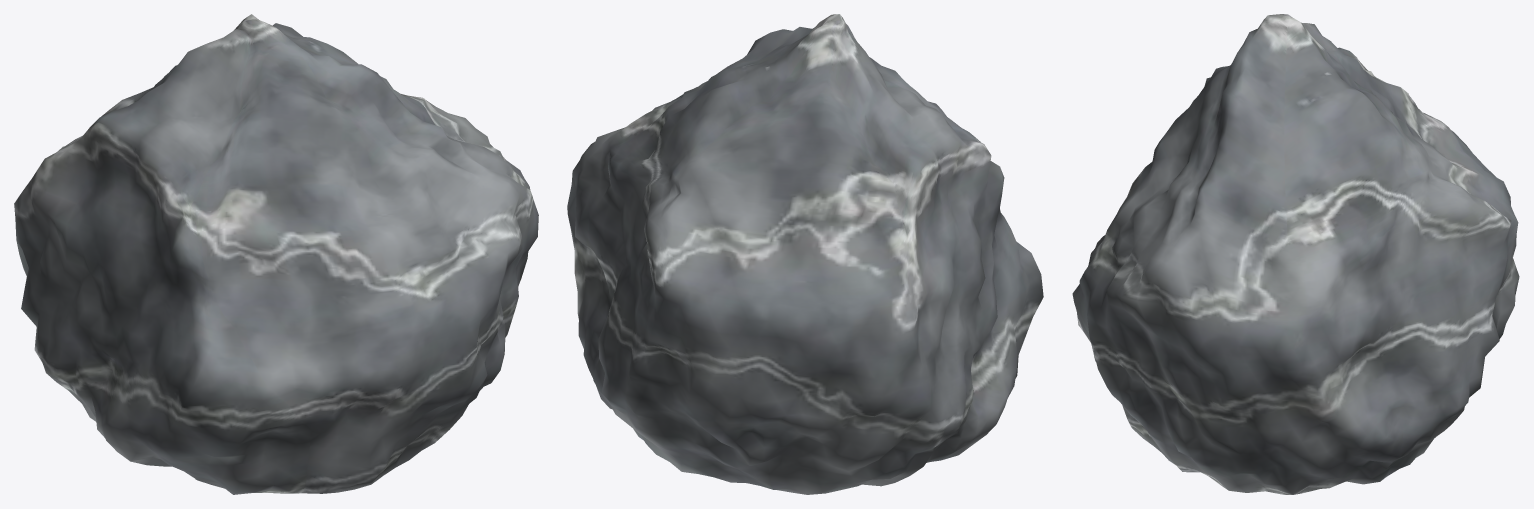
The model's file is stone_c.glb.
3 views of the same model, side by side, from view 1: azimuth 30°, elevation 25°; view 2: azimuth 150°, elevation 25°; view 3: azimuth 270°, elevation 25° (orthographic). The views are drawn at different scales.
Parts seen in each view (by area): view 1: stone_c; view 2: stone_c; view 3: stone_c.
Part boxes in pixels (<box>): stone_c: <box>14,14,538,494</box>; stone_c: <box>567,14,1043,494</box>; stone_c: <box>1072,14,1519,494</box>.
Size of the model in its own units: 11.62 by 11.16 by 11.04.
Materials: 1 (1 with a texture image).
